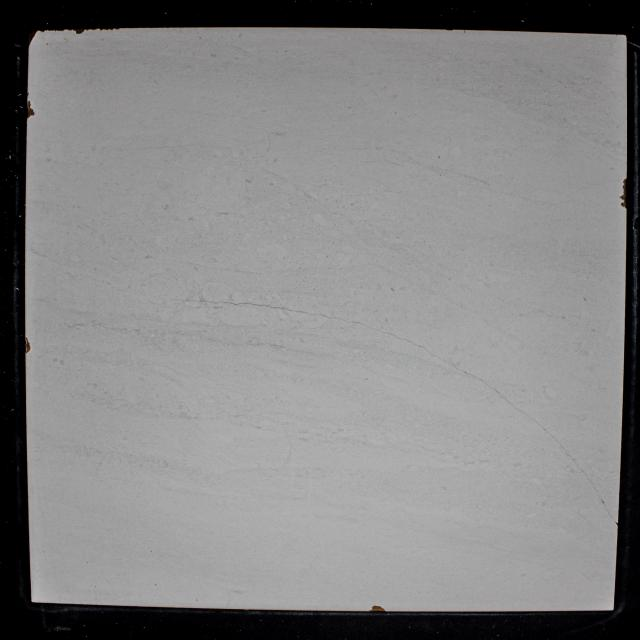edge-chipping: (619, 178, 628, 210), (28, 30, 38, 47), (369, 605, 387, 612), (24, 337, 31, 354), (26, 108, 35, 119), (72, 29, 86, 34), (27, 100, 31, 108)
line: (431, 354, 527, 415), (316, 313, 429, 352), (533, 420, 582, 472), (585, 473, 615, 522), (208, 300, 310, 314)
